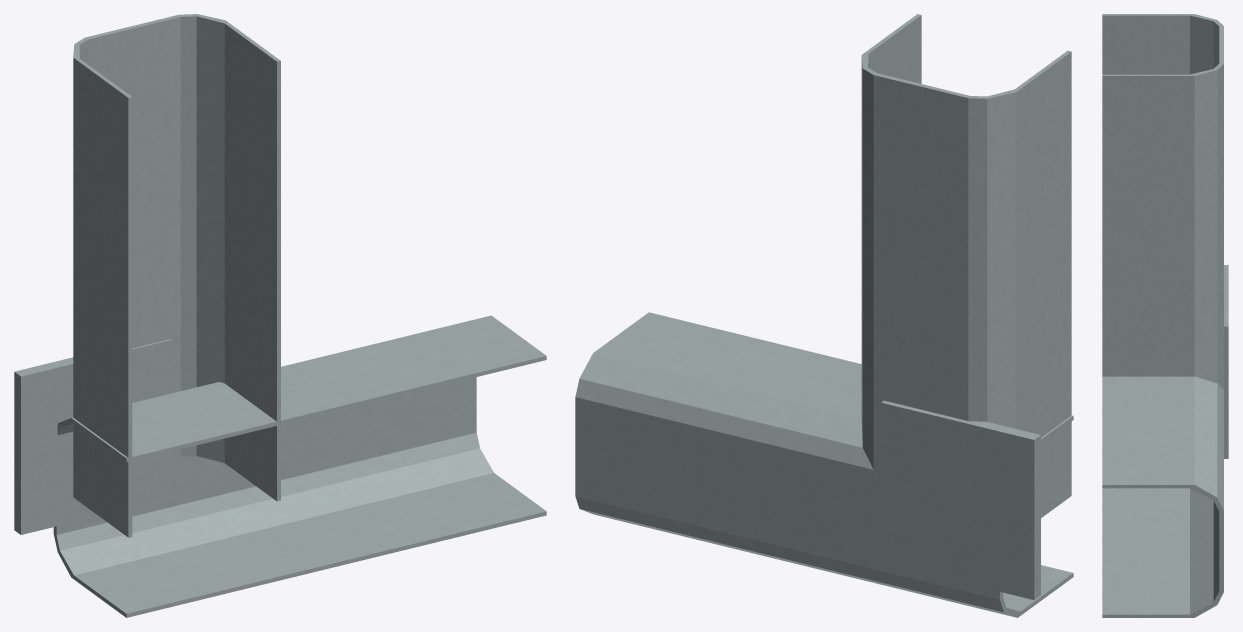
The model's file is Gutter_Outside_Corner_90.glb.
The picture shows the model from 3 angles, left to right: view 1: azimuth 30°, elevation 25°; view 2: azimuth 150°, elevation 25°; view 3: azimuth 270°, elevation 25°; orthographic projection. The views are drawn at different scales.
Parts seen in each view (by area): view 1: Corner_North_Channel, Corner_East_Channel, Corner_Bottom_Overlap_Flashing; view 2: Corner_North_Channel, Corner_East_Channel, Corner_Bottom_Overlap_Flashing; view 3: Corner_North_Channel, Corner_East_Channel, Corner_Bottom_Overlap_Flashing.
Part boxes in pixels (left/top/right/bottom): Corner_North_Channel: left=73, top=14, right=280, bottom=537; Corner_East_Channel: left=53, top=315, right=546, bottom=617; Corner_Bottom_Overlap_Flashing: left=14, top=339, right=172, bottom=534; Corner_North_Channel: left=861, top=14, right=1071, bottom=520; Corner_East_Channel: left=575, top=312, right=1073, bottom=617; Corner_Bottom_Overlap_Flashing: left=881, top=400, right=1040, bottom=599; Corner_North_Channel: left=1102, top=14, right=1223, bottom=389; Corner_East_Channel: left=1102, top=376, right=1223, bottom=617; Corner_Bottom_Overlap_Flashing: left=1224, top=265, right=1228, bottom=458.
Bounding box in the file's own units: 0.4675 × 0.508 × 0.134.
1 material, 1 textured.
